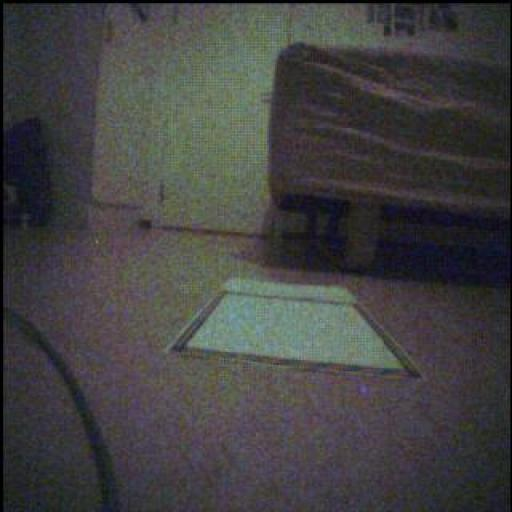pad: (171, 281, 420, 377)
